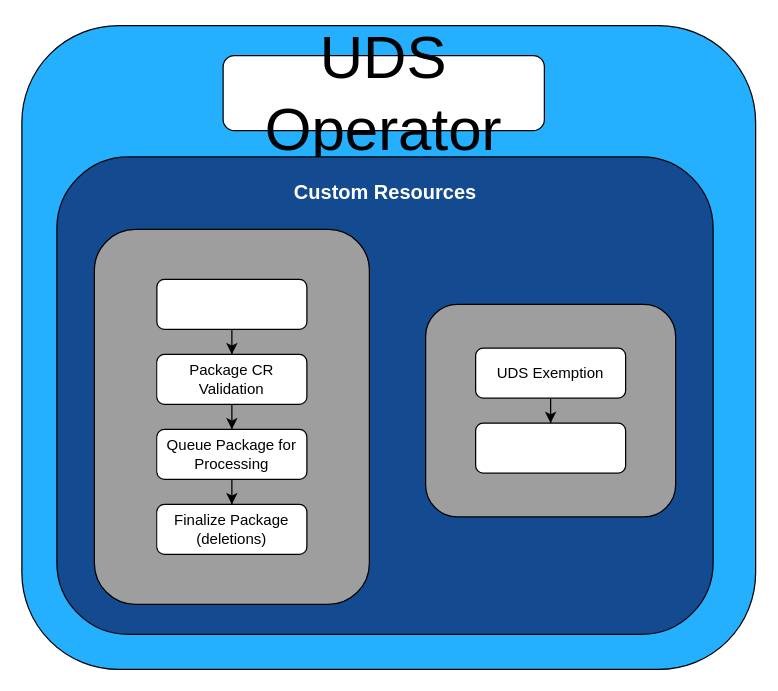
Some shapes in this 778 by 691 pixel diagram are drawn without their labels. Each missing label, with the box of its shape:
Exemption CR Validation: (474, 422, 626, 473)
UDS Package: (156, 278, 307, 329)
